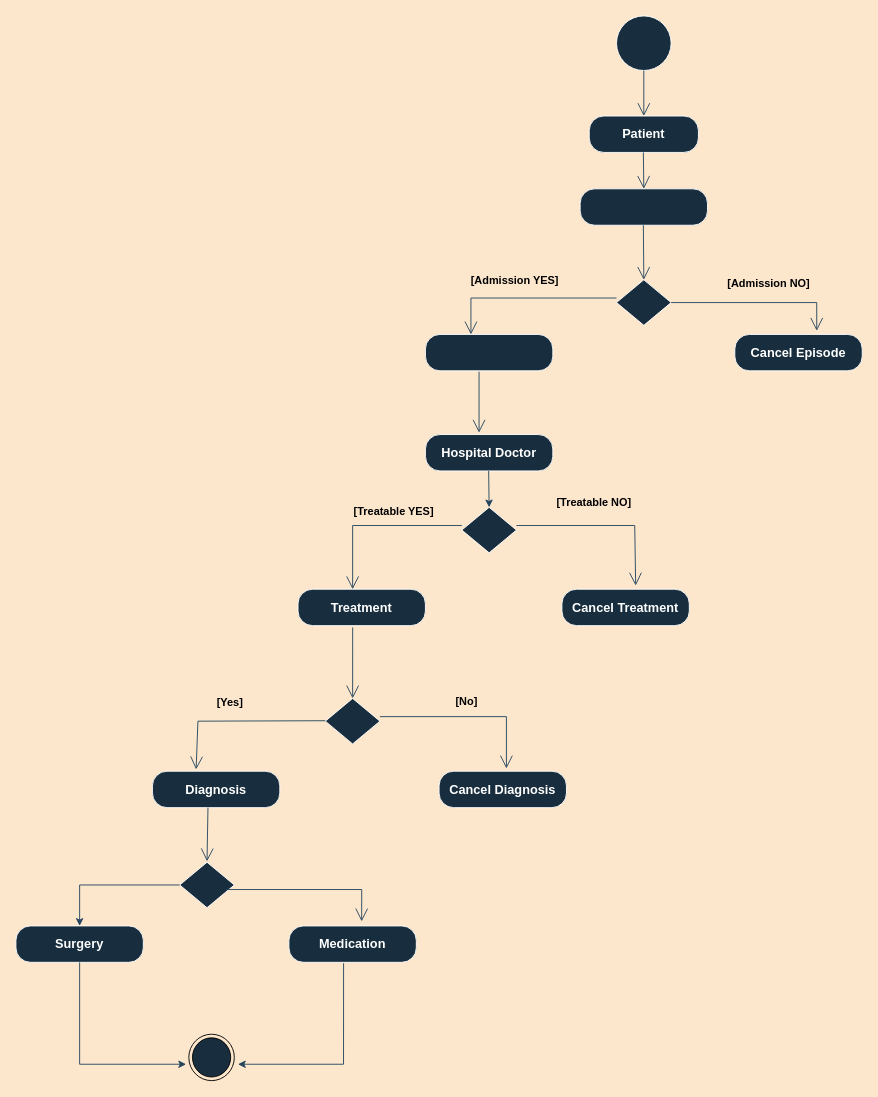
This 878x1097 diagram has some shape labels left out. Here are the shapes that lost their labels. From the top down, the centre of each, then its label:
At point 643,206: "Community Doctor".
At point 489,352: "Admission Episode".
